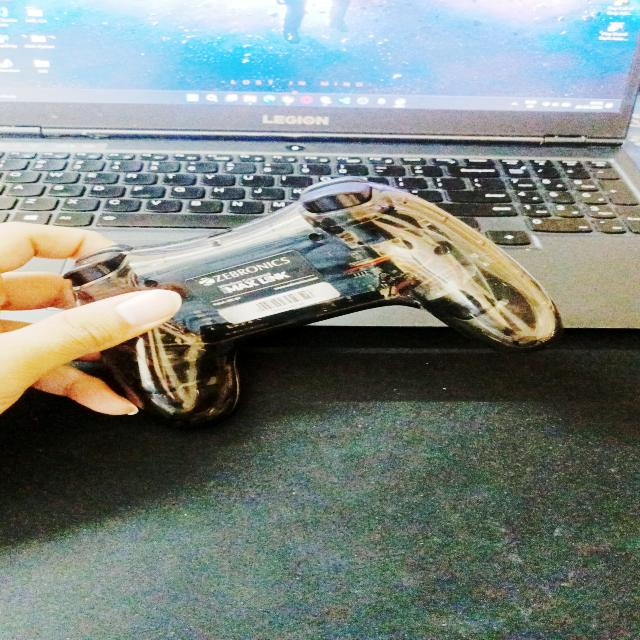gamepad: (59, 176, 563, 428)
